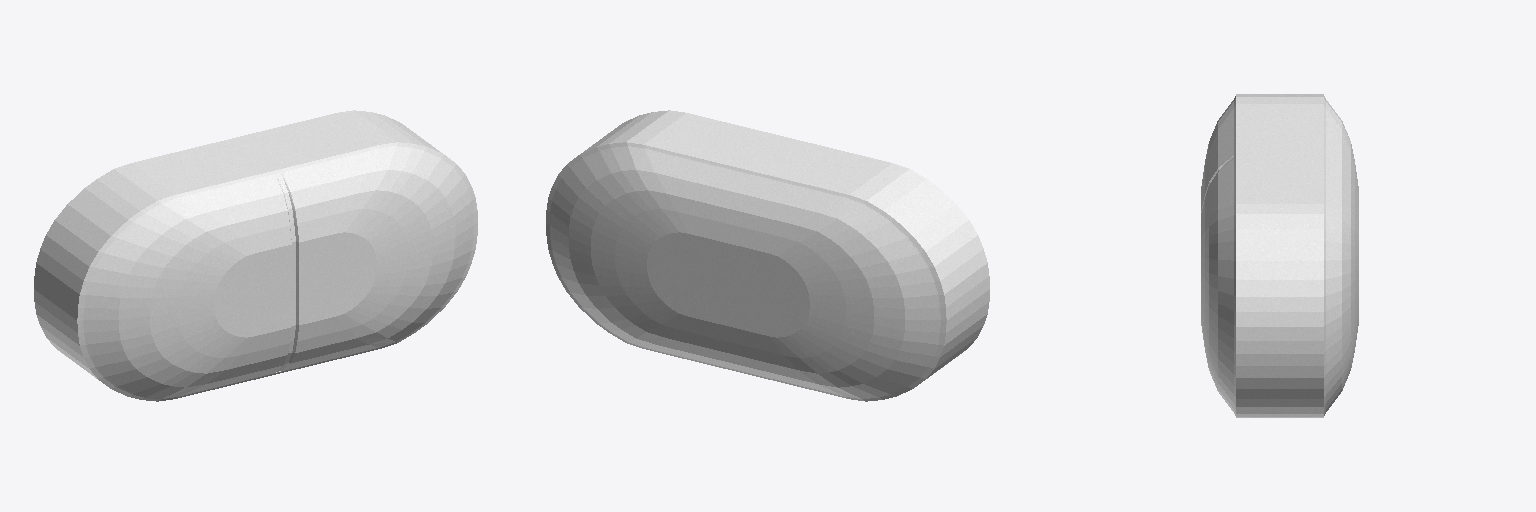
The picture shows the model from 3 angles: view 1: azimuth 30°, elevation 25°; view 2: azimuth 150°, elevation 25°; view 3: azimuth 270°, elevation 25°; orthographic projection.
Parts seen in each view (by area): view 1: pCube9; view 2: pCube9; view 3: pCube9.
Boxes of the visible parts, <box> form: pCube9: <box>34,110,477,401</box>; pCube9: <box>546,110,989,401</box>; pCube9: <box>1201,94,1358,417</box>.
Size of the model in its own units: 7.6 by 3.7 by 2.6.
1 materials, 1 textured.